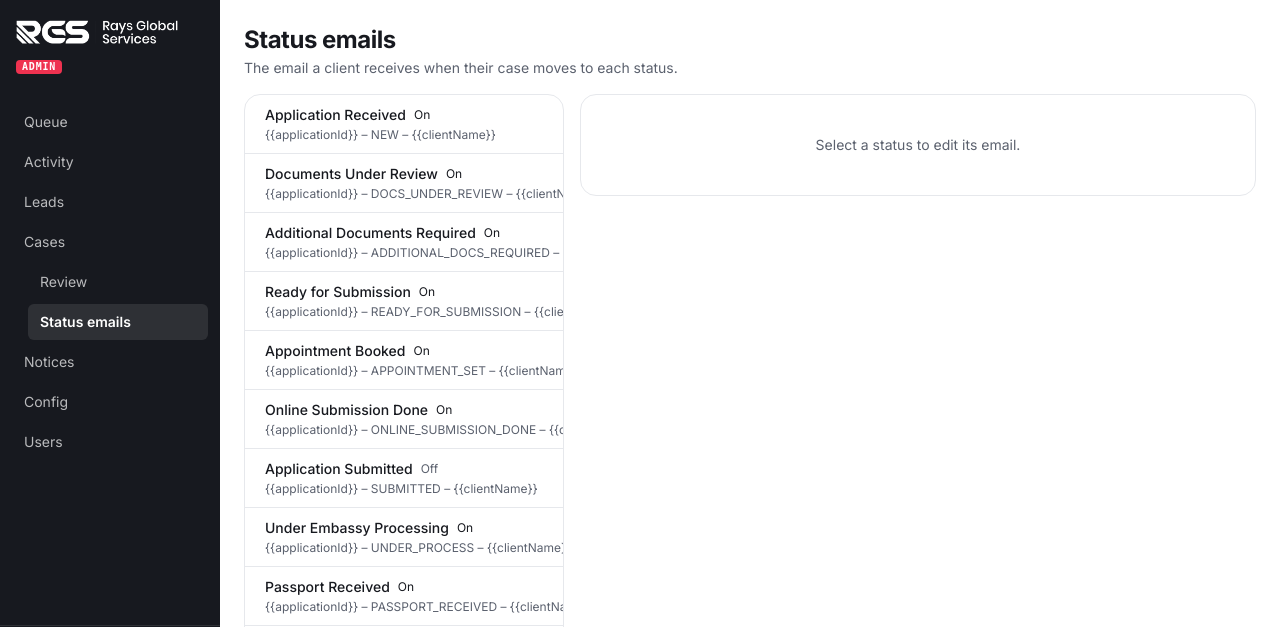
StatusEmailsPage › shows the clicked status's subject in an input beside the list, marking the row active
Click the button with aria-label "Open Application Received" at coordinates (404, 124), box x1=245 y1=95 x2=563 y2=153
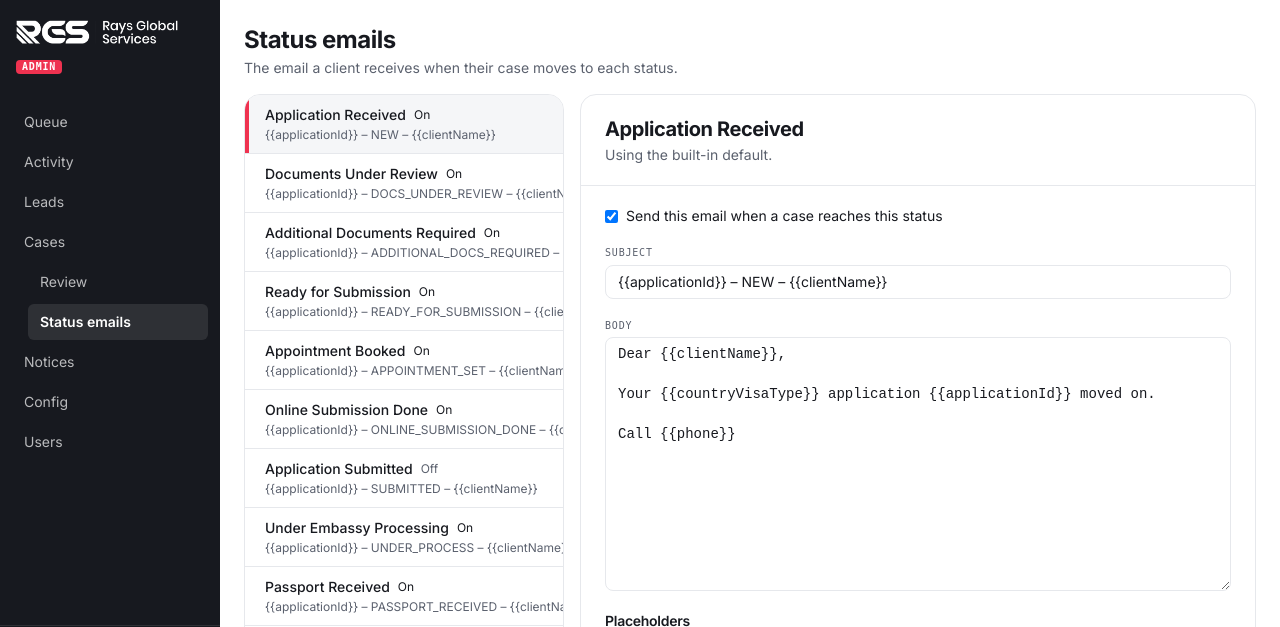
Now the field labelled "Subject" holds "{{applicationId}} – NEW – {{clientName}}", box x1=605 y1=264 x2=1231 y2=298
Click the button with aria-label "Open Application Submitted" at coordinates (404, 478), box x1=245 y1=449 x2=563 y2=507
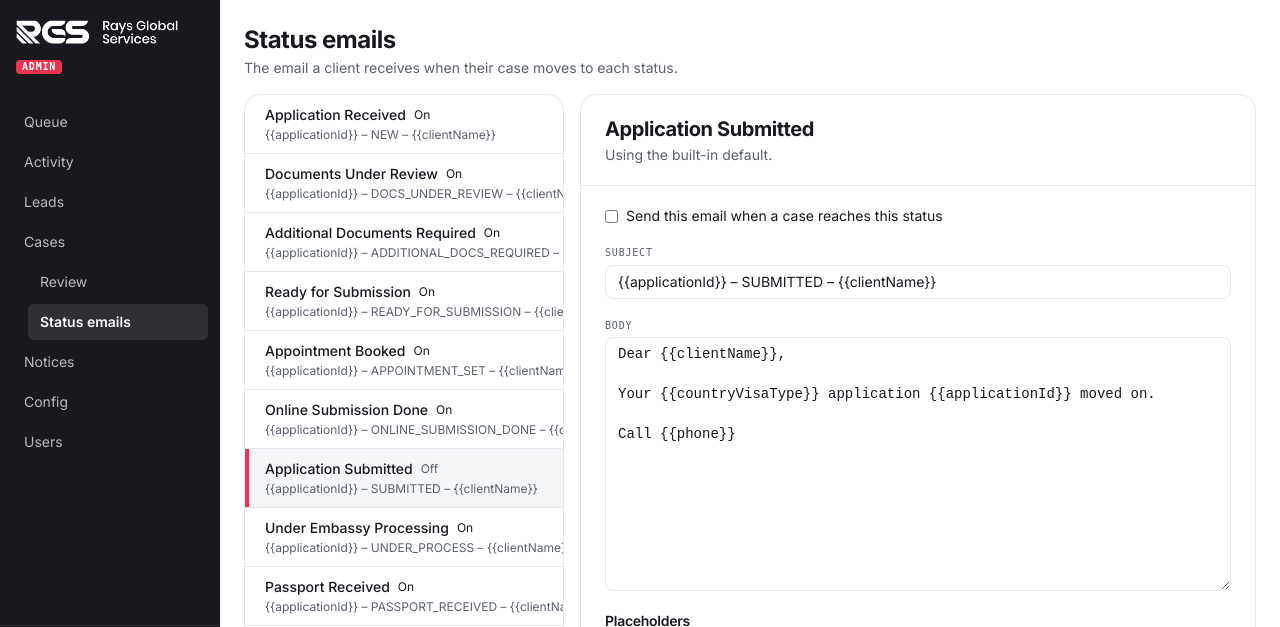
Now the field labelled "Subject" holds "{{applicationId}} – SUBMITTED – {{clientName}}", box x1=605 y1=264 x2=1231 y2=298
